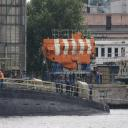submarine: (1, 83, 113, 114)
